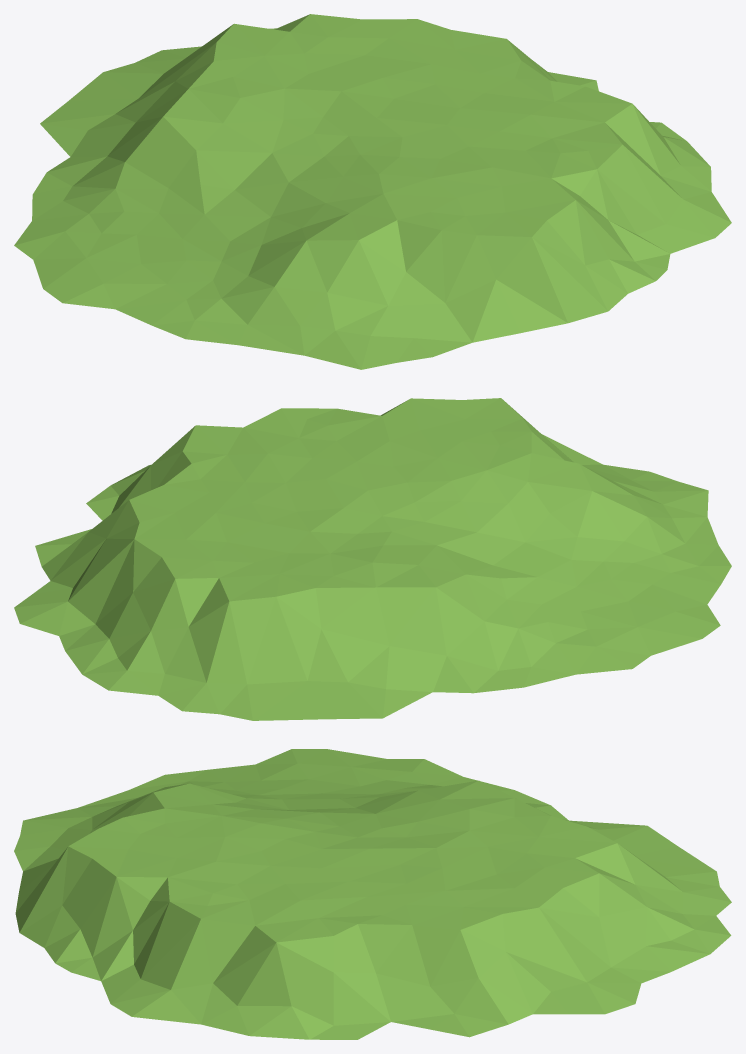
The model's file is MT_Mountain_M_c_09.fbx.
The picture shows the model from 3 angles, top to bottom: view 1: azimuth 30°, elevation 25°; view 2: azimuth 150°, elevation 25°; view 3: azimuth 270°, elevation 25°; orthographic projection. The views are drawn at different scales.
Visible parts, largest first — view 1: MT_Mountain_M_c_09; view 2: MT_Mountain_M_c_09; view 3: MT_Mountain_M_c_09.
Boxes of the visible parts, x1=… form: MT_Mountain_M_c_09: x1=14, y1=14, x2=731, y2=369; MT_Mountain_M_c_09: x1=14, y1=398, x2=731, y2=720; MT_Mountain_M_c_09: x1=14, y1=749, x2=731, y2=1039.
Size of the model in its own units: 4453 by 473 by 4648.
